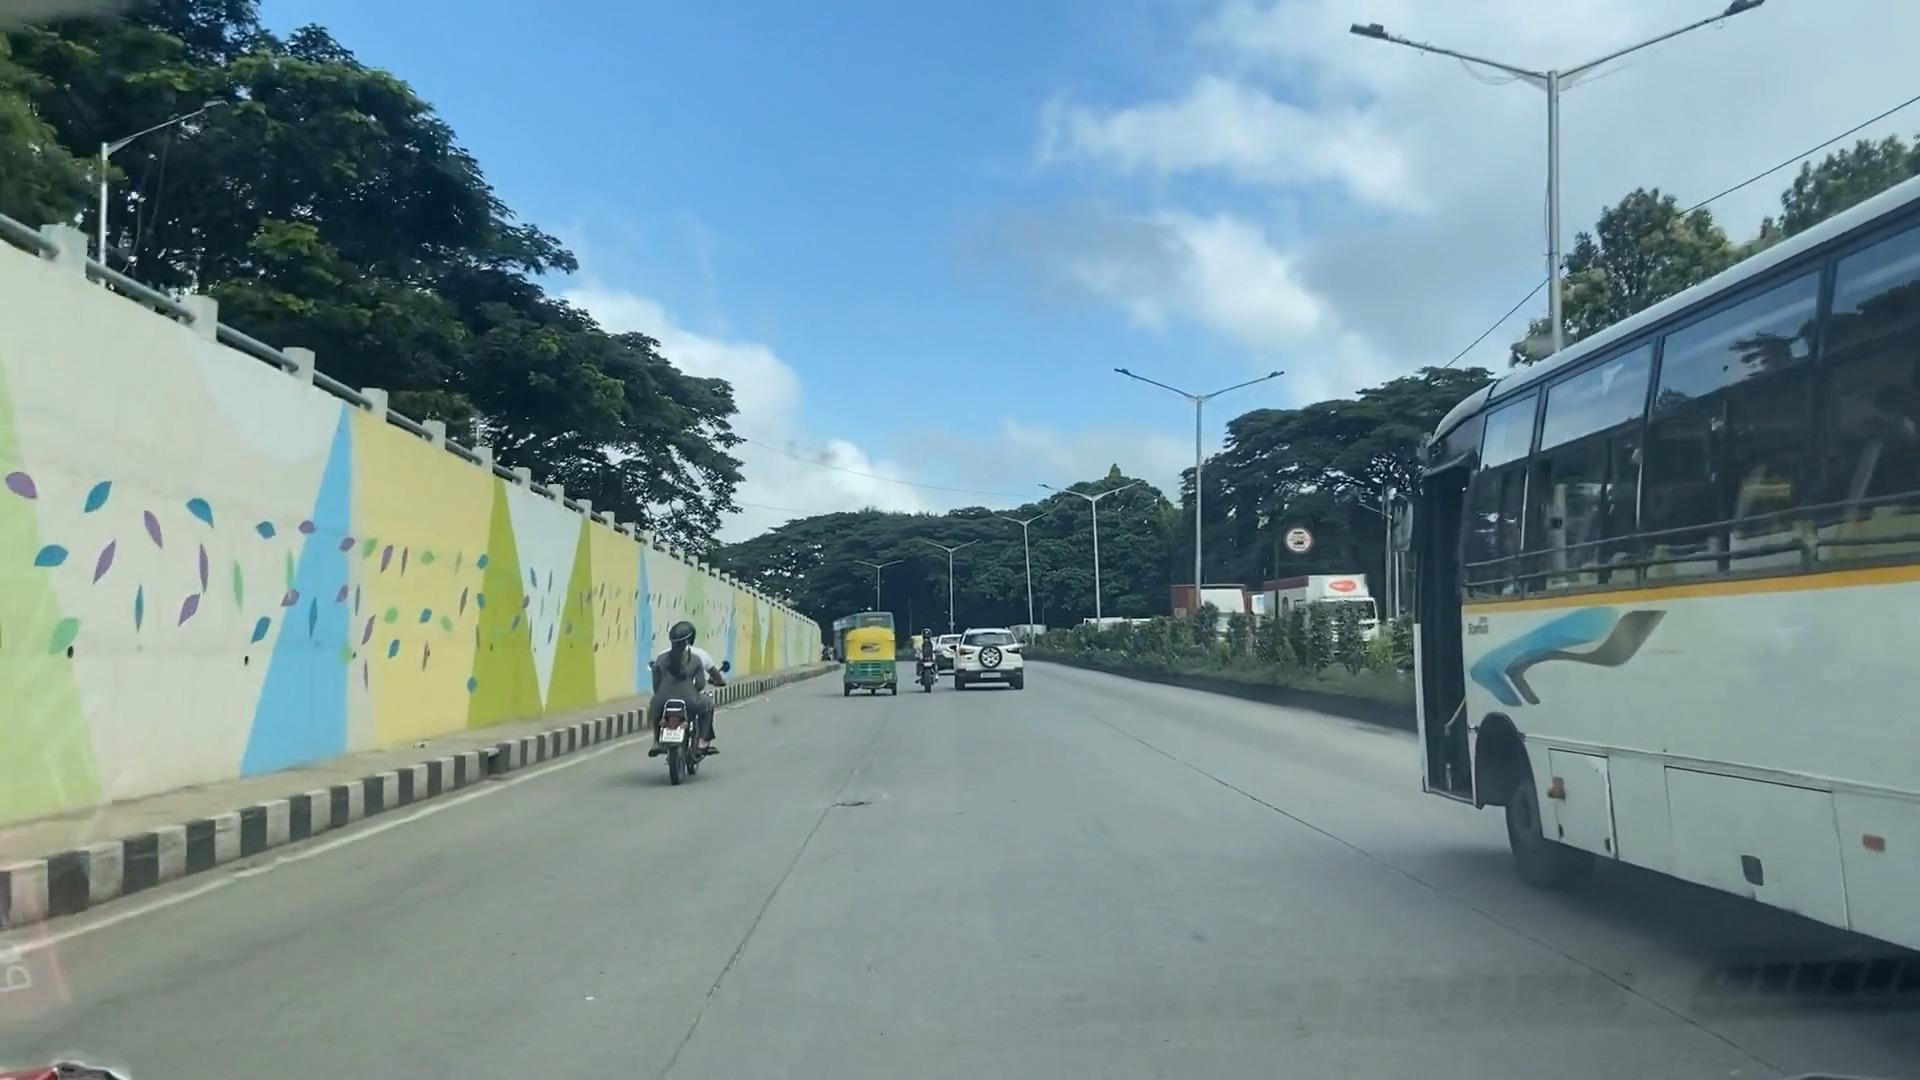HMV: (1411, 268, 1920, 936)
LMV: (650, 628, 709, 773)
